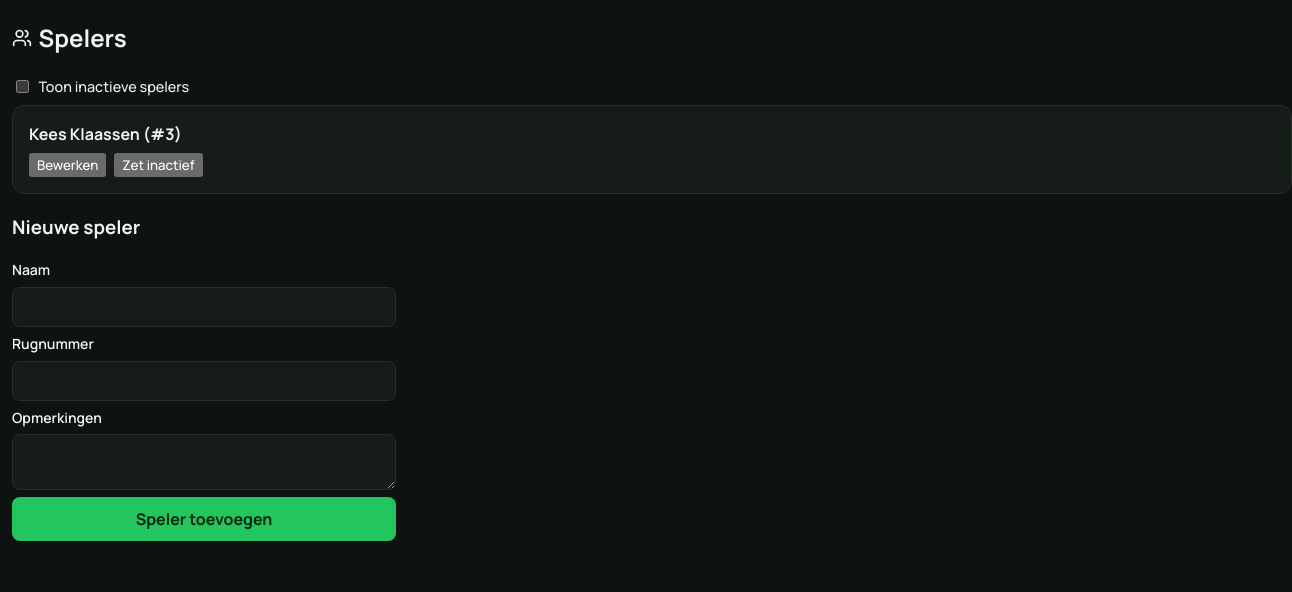
Test: PlayerListScreen › moves focus to the naam field when editing a player fails, instead of only showing red text
Expected: the text "Kees Klaassen (#3)" is shown, [29, 123, 182, 145]
Click the button "Bewerken": (68, 165) [29, 153, 106, 177]
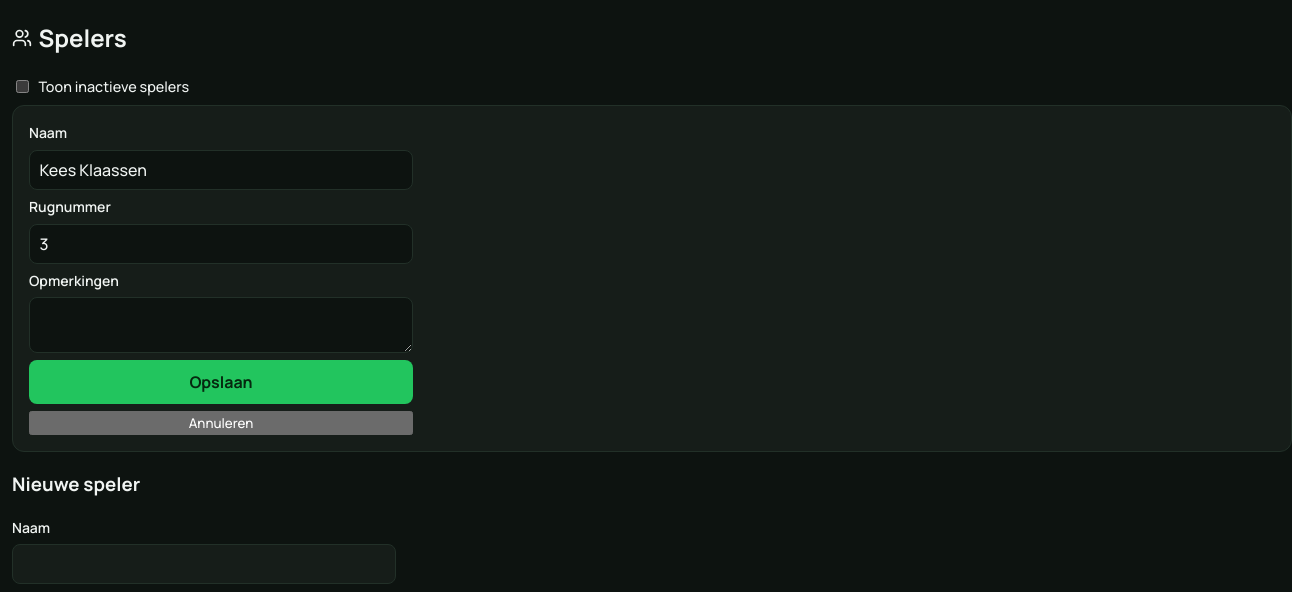
Click the button "Opslaan": (221, 382) [29, 360, 413, 404]
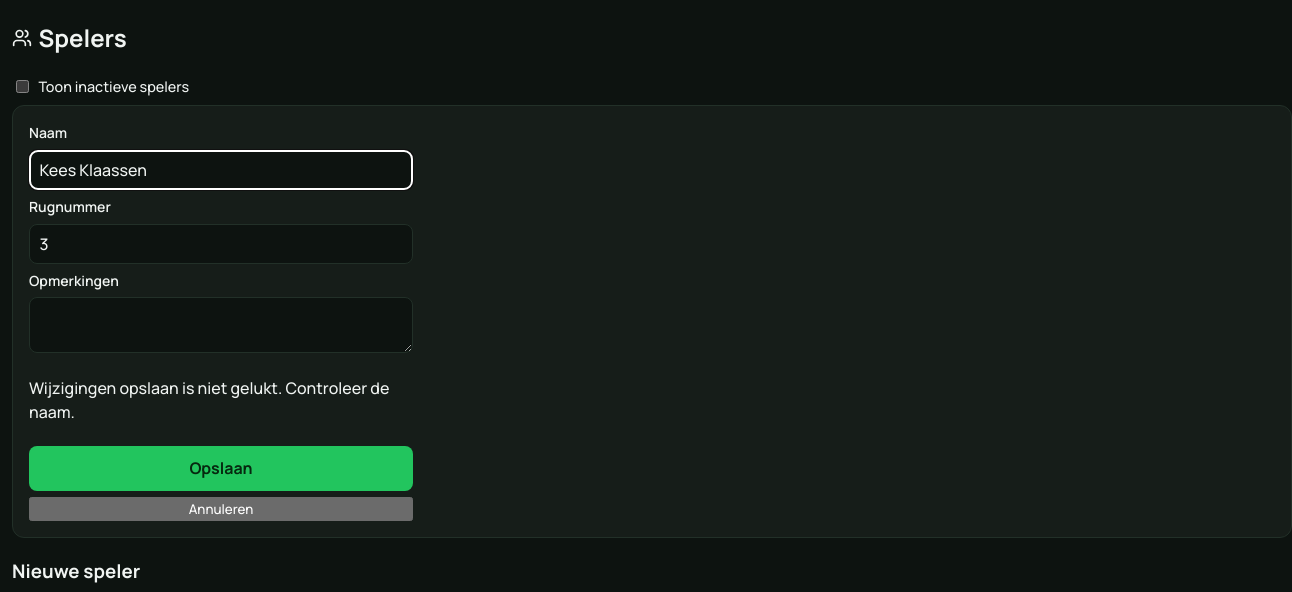
Now the message shows "niet gelukt", box [29, 377, 389, 423]
